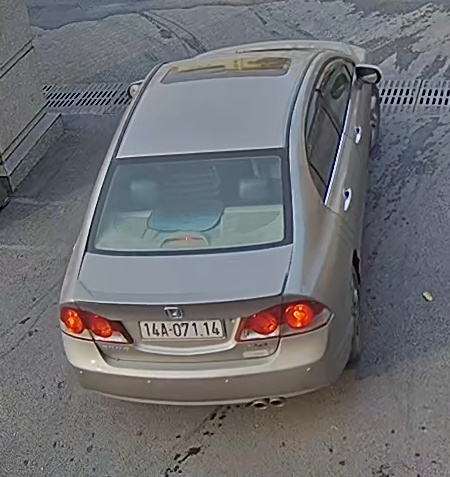vehicle plate: (137, 317, 230, 342)
